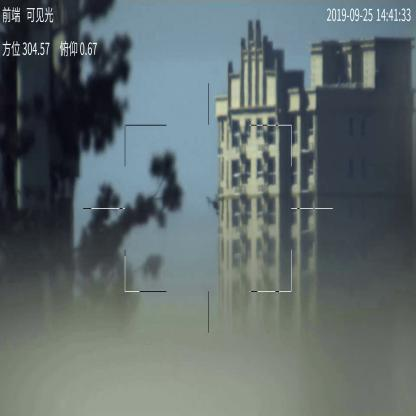uav: (206, 192, 221, 214)
